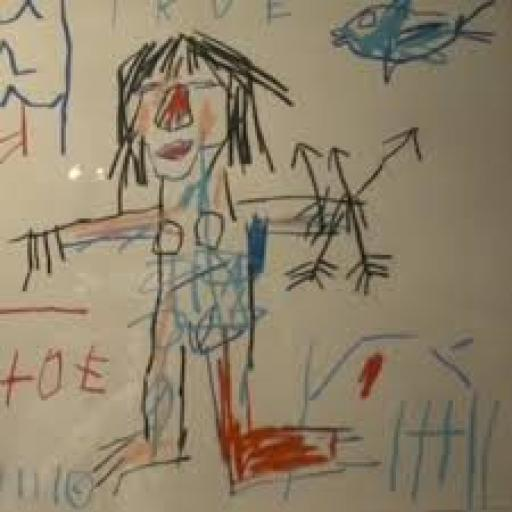person: (7, 27, 355, 510)
